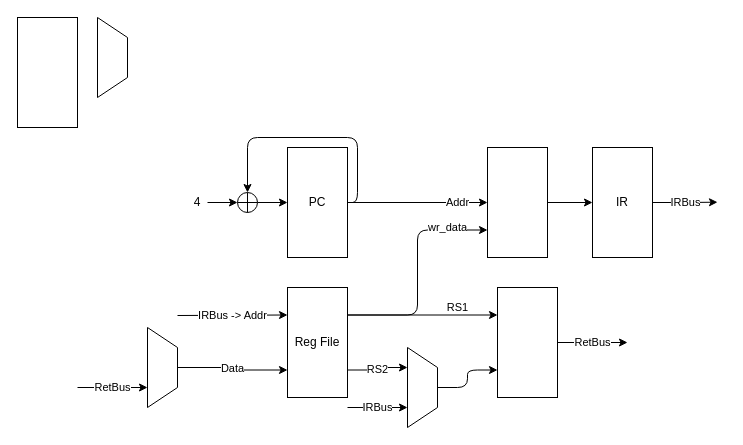
Image size: 743x445. Some labels were removed from this diagram. The shapes that lost their labels are listed below. From the top down, each one's centre as x and y in pixels, then its label:
At point (517, 202): "Memory".
At point (527, 342): "ALU".
